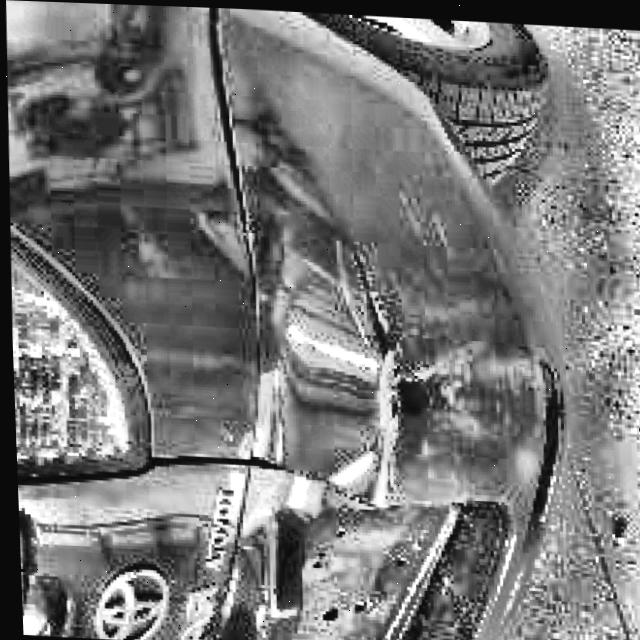bumper_dent: (241, 274, 393, 419)
